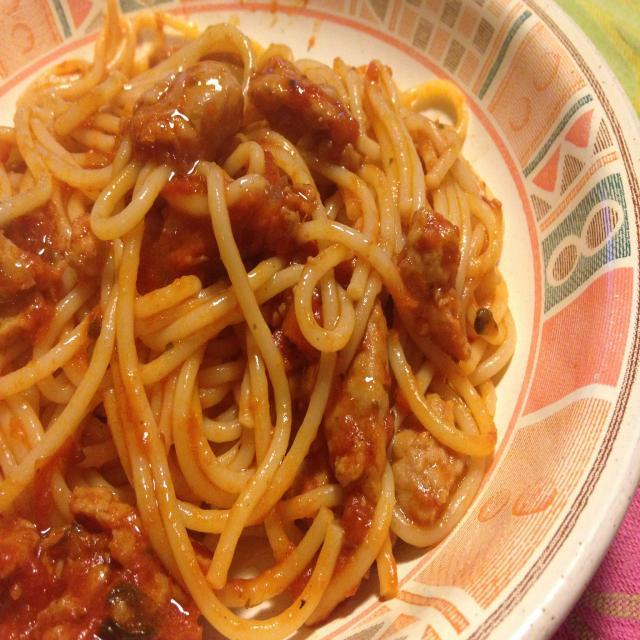Pasta al ragu: (13, 27, 511, 601)
